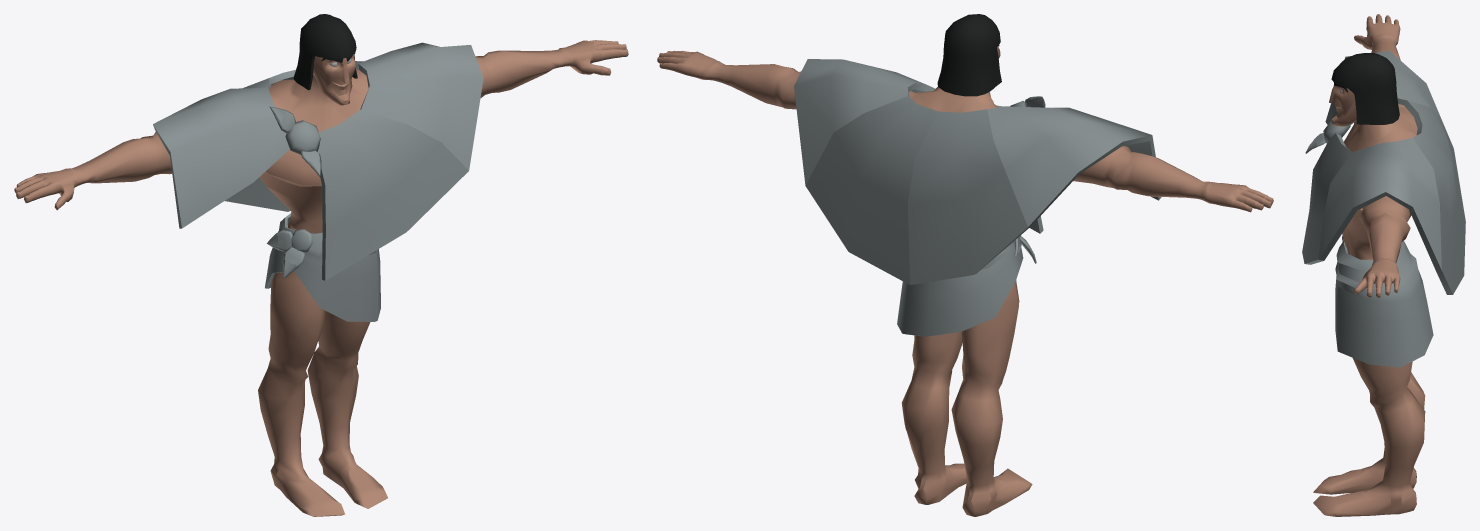
The model's file is Kronk_0.1.fbx.
3 views of the same model, side by side, from view 1: azimuth 30°, elevation 25°; view 2: azimuth 150°, elevation 25°; view 3: azimuth 270°, elevation 25° (orthographic). The views are drawn at different scales.
Visible parts, largest first — view 1: CLOTHING, BODY; view 2: CLOTHING, BODY; view 3: CLOTHING, BODY.
Boxes of the visible parts, x1,y1,x2,y2 form: CLOTHING: [153, 42, 483, 321]; BODY: [14, 14, 628, 516]; CLOTHING: [794, 59, 1161, 336]; BODY: [657, 14, 1273, 516]; CLOTHING: [1302, 51, 1465, 367]; BODY: [1313, 14, 1425, 516].
Size of the model in its own units: 2.82 by 2.1 by 0.6997.
